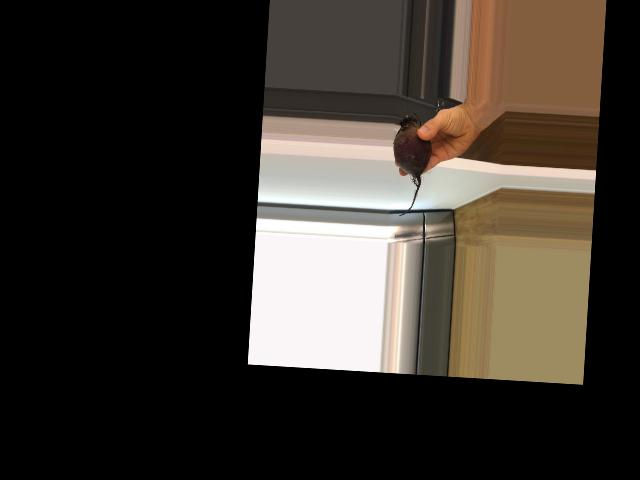beet: (388, 111, 433, 217)
